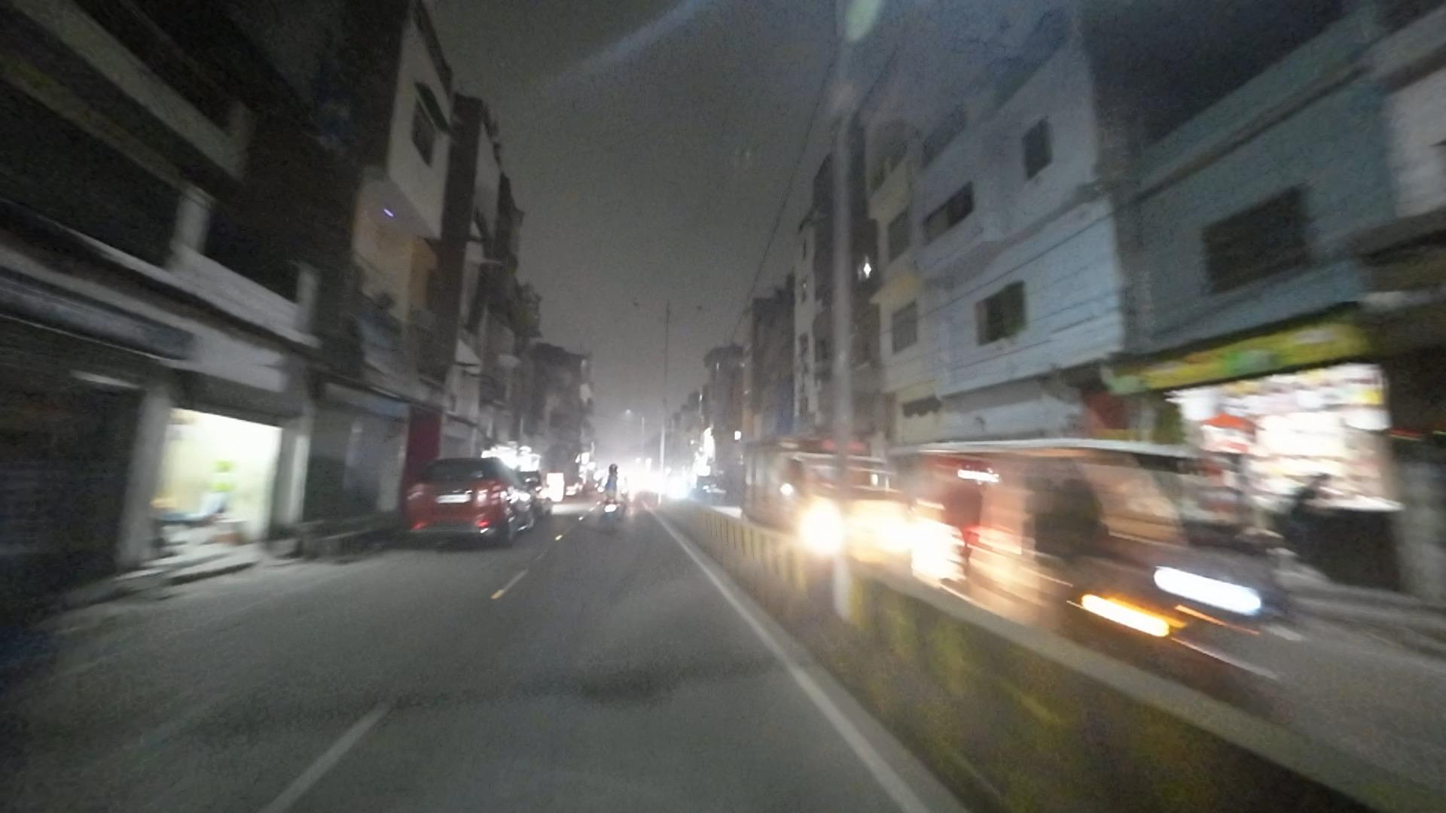streetlight: (627, 299, 660, 312), (674, 303, 706, 313)
